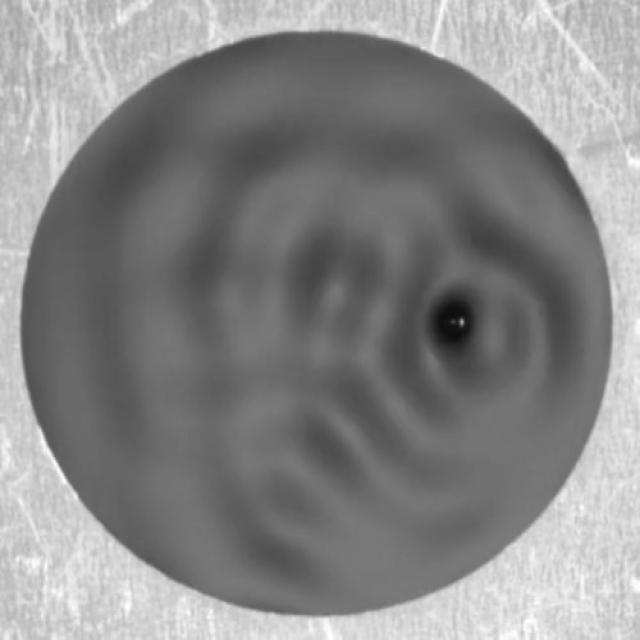droplet: (427, 298, 479, 346)
